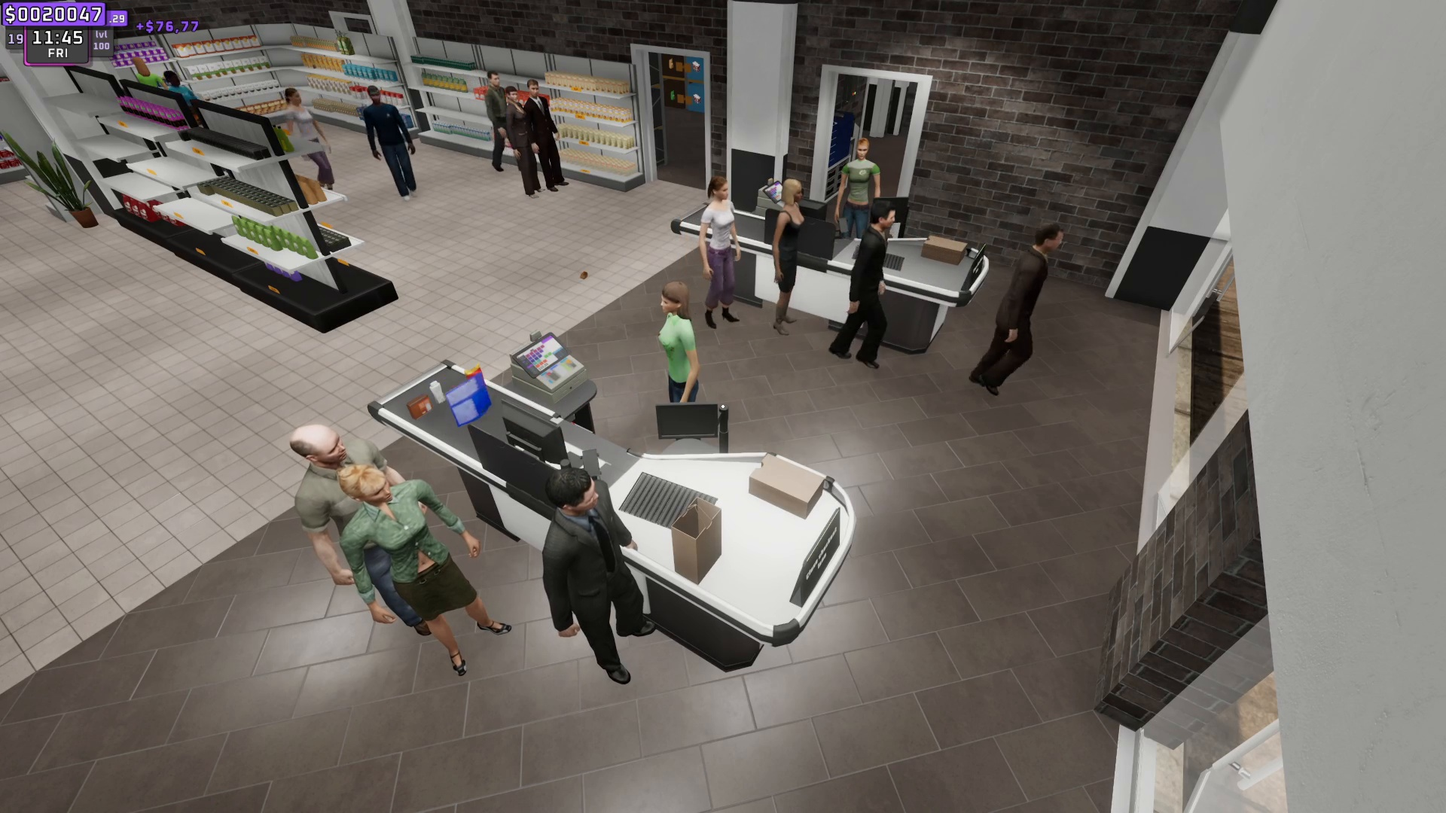Client: (348, 465, 503, 677), (532, 462, 674, 676), (299, 443, 412, 626), (986, 225, 1059, 399), (851, 200, 904, 386), (702, 178, 744, 331), (773, 179, 812, 323)
Employee: (657, 297, 707, 399), (839, 134, 889, 204)
